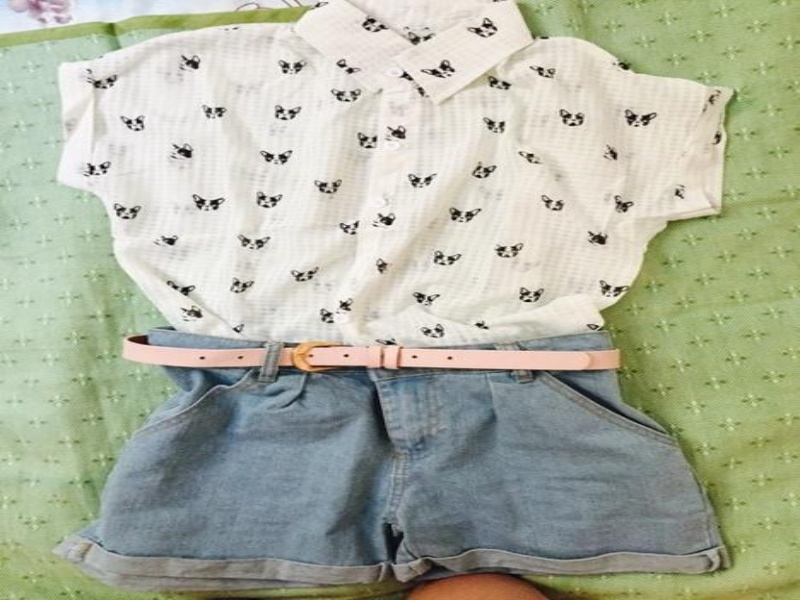short_sleeved_shirt: (50, 0, 738, 417)
shorts: (41, 325, 745, 597)
